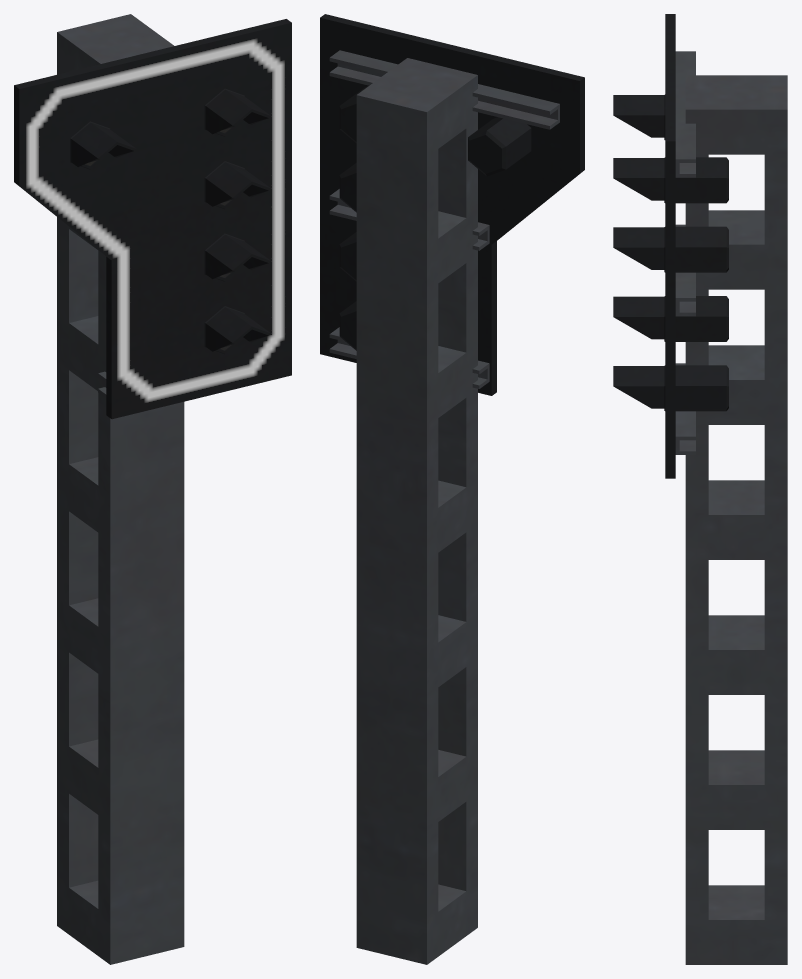
The model's file is signal_counter_flow.obj.
3 renders of one model, left to right at view 1: azimuth 30°, elevation 25°; view 2: azimuth 150°, elevation 25°; view 3: azimuth 270°, elevation 25°, orthographic. The views are drawn at different scales.
Visible parts, largest first — view 1: Pole_Cube, SignalHead_Cube.001; view 2: Pole_Cube, SignalHead_Cube.001; view 3: Pole_Cube, SignalHead_Cube.001.
Boxes of the visible parts, x1,y1,x2,y2 form: Pole_Cube: [57, 14, 184, 964]; SignalHead_Cube.001: [14, 19, 291, 419]; Pole_Cube: [329, 50, 559, 964]; SignalHead_Cube.001: [320, 14, 584, 395]; Pole_Cube: [675, 51, 787, 964]; SignalHead_Cube.001: [613, 14, 728, 478].
Bounding box in the file's own units: 0.59 × 1.88 × 0.342.
